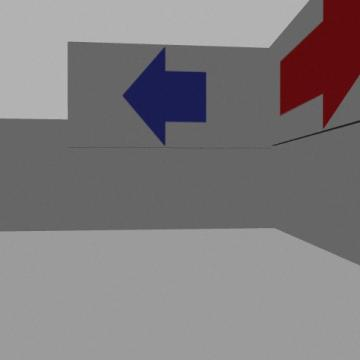blue_left: (123, 47, 206, 145)
